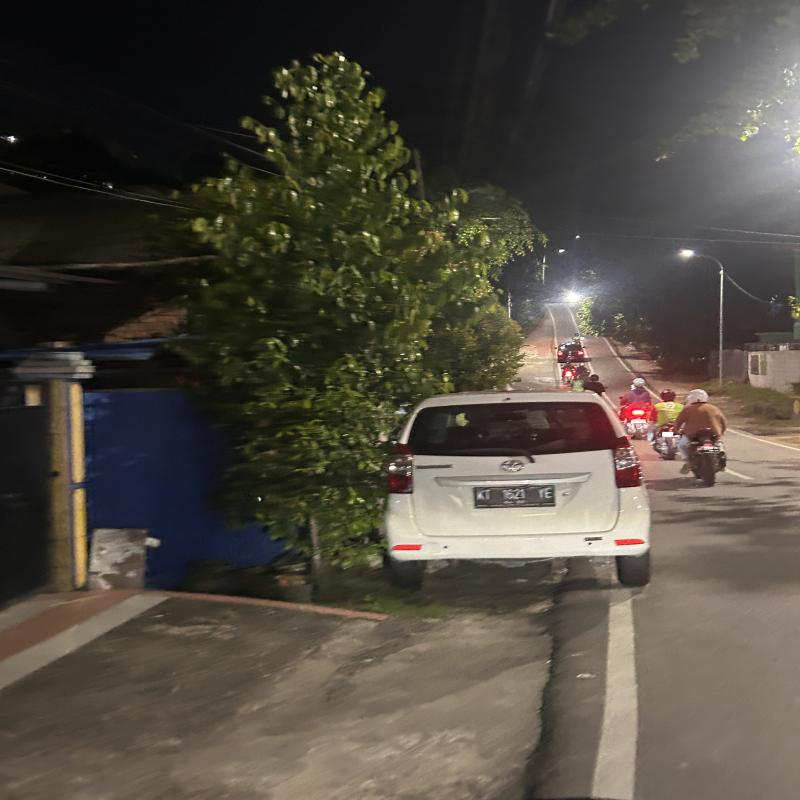license plate on a car: (466, 482, 559, 511)
